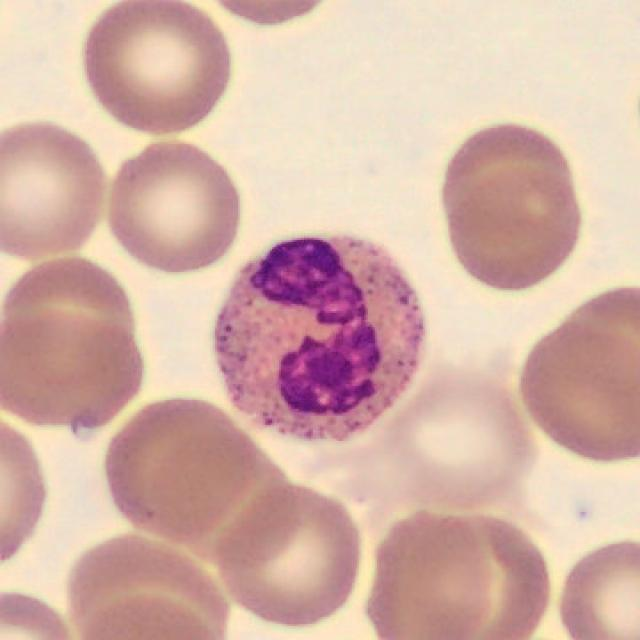Bastonete: (217, 236, 421, 439)
